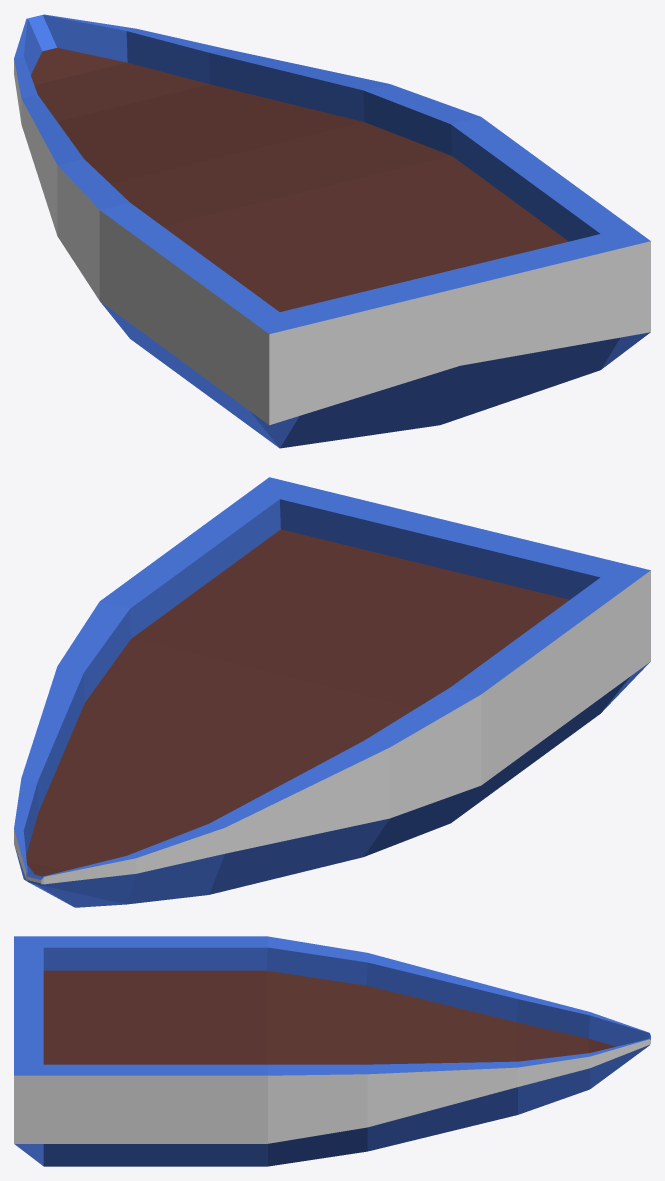
The model's file is Boad5.fbx.
3 renders of one model, top to bottom at view 1: azimuth 30°, elevation 25°; view 2: azimuth 150°, elevation 25°; view 3: azimuth 270°, elevation 25°, orthographic. The views are drawn at different scales.
Parts seen in each view (by area): view 1: Cube.001; view 2: Cube.001; view 3: Cube.001.
Part boxes in pixels (x1,y1,x2,y2): Cube.001: (14, 14, 650, 448); Cube.001: (14, 477, 650, 907); Cube.001: (14, 936, 650, 1166).
Size of the model in its own units: 1022 by 389 by 1976.
